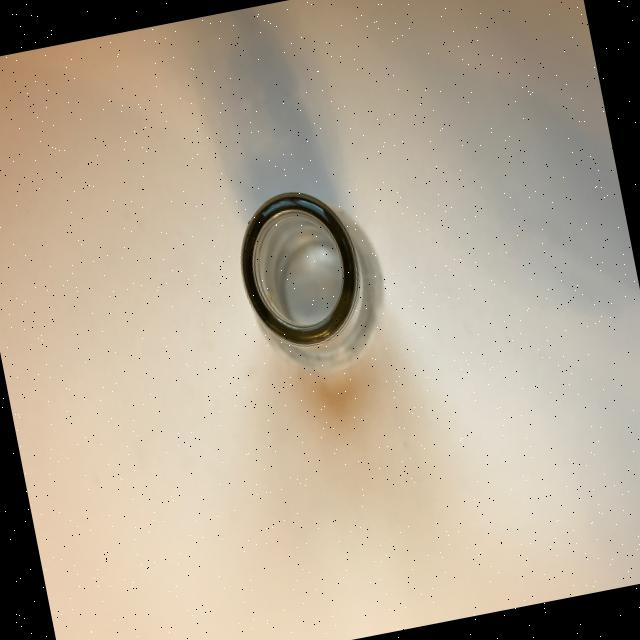metal: (227, 178, 382, 380)
